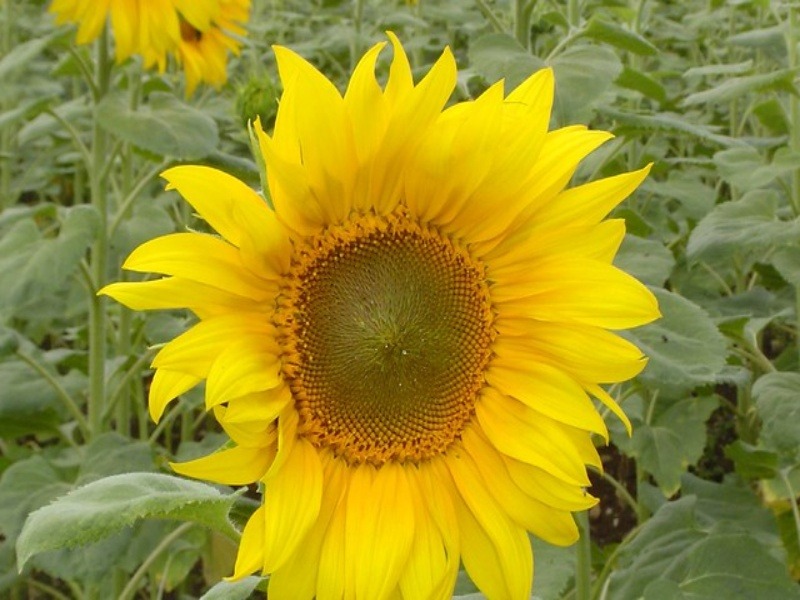sunflower: (95, 48, 682, 600)
